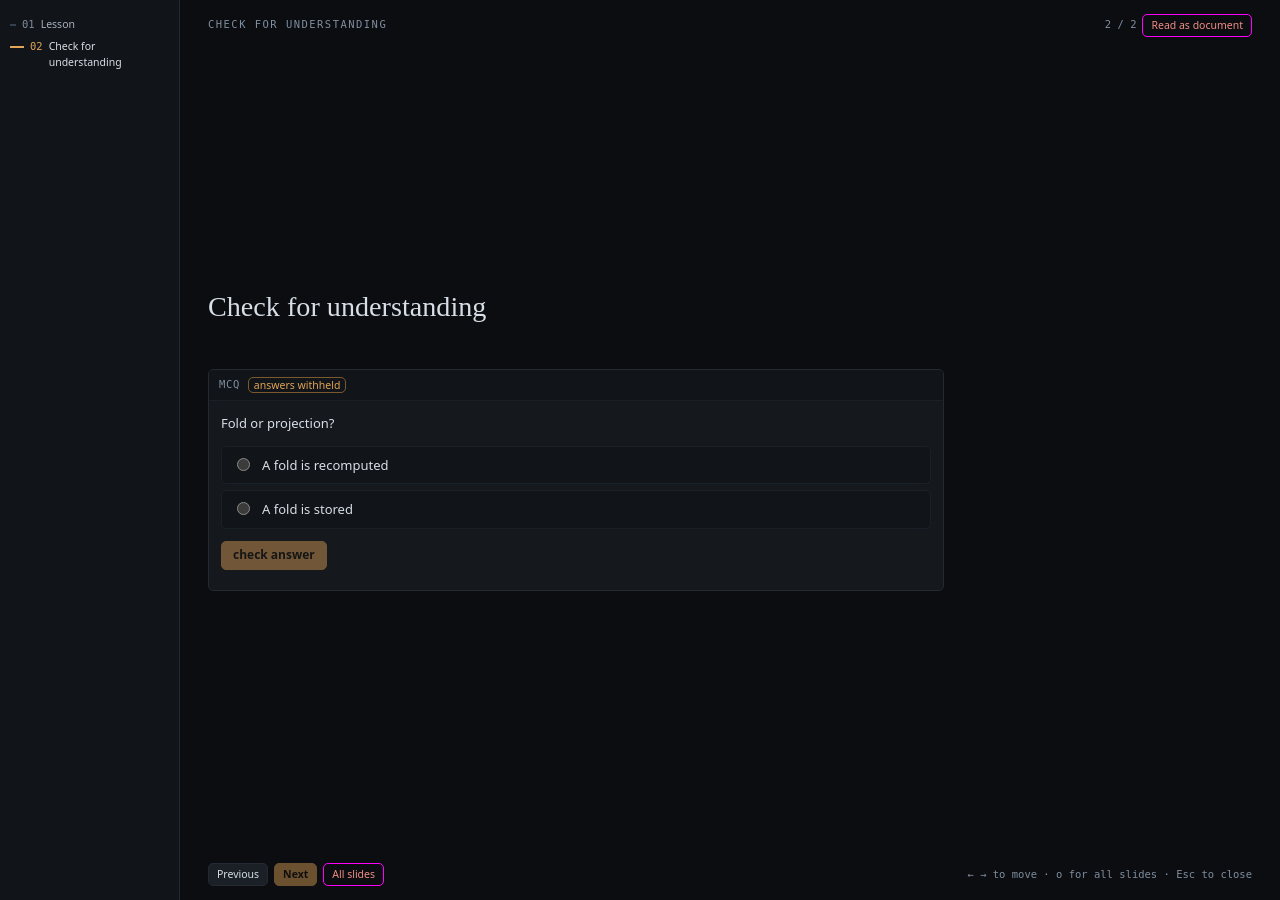
answers a multiple-choice question from a slide
Click the text "A fold is recomputed" at (325, 465), box [262,456,388,474]
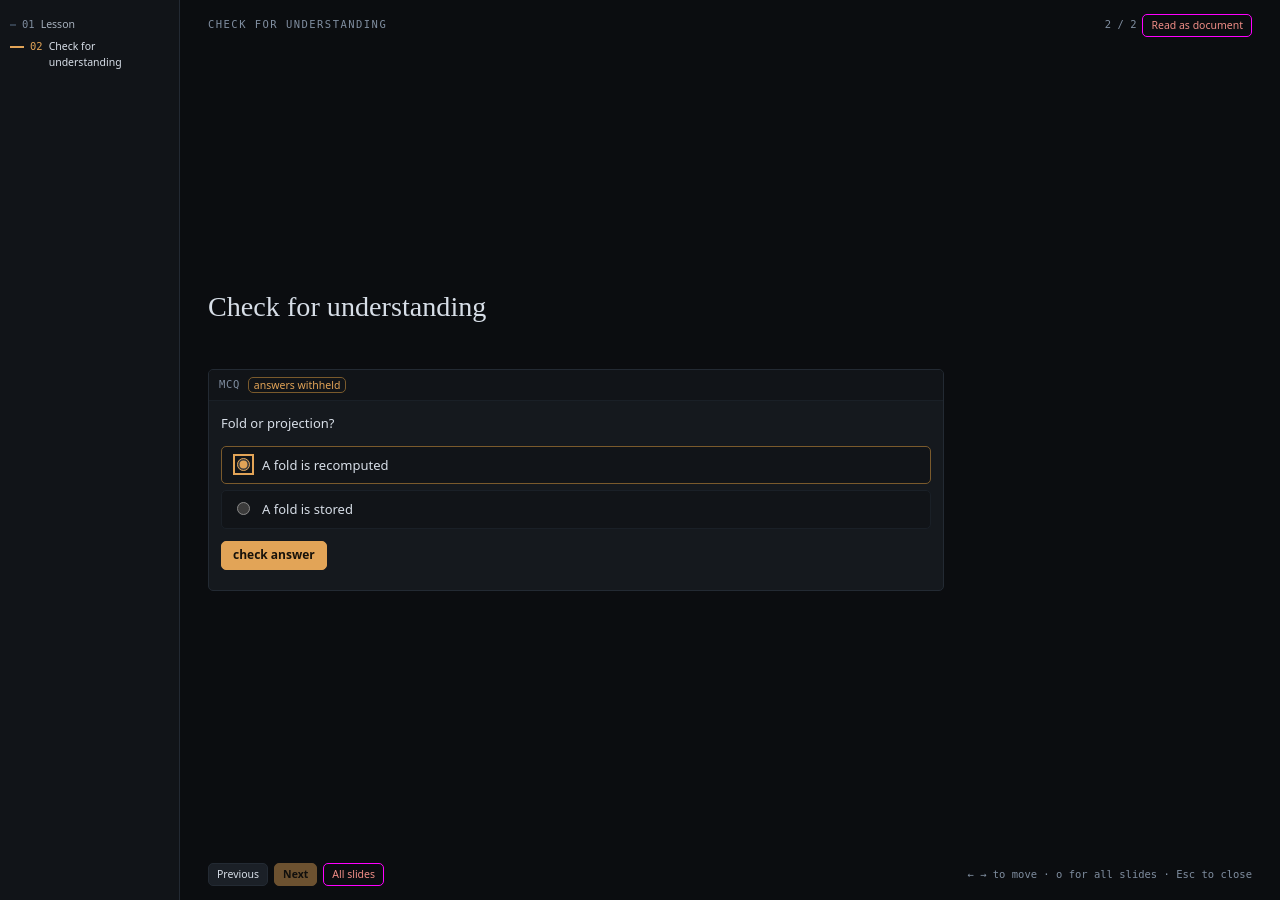
Click the button "check answer" at (274, 556), box [221,541,327,570]
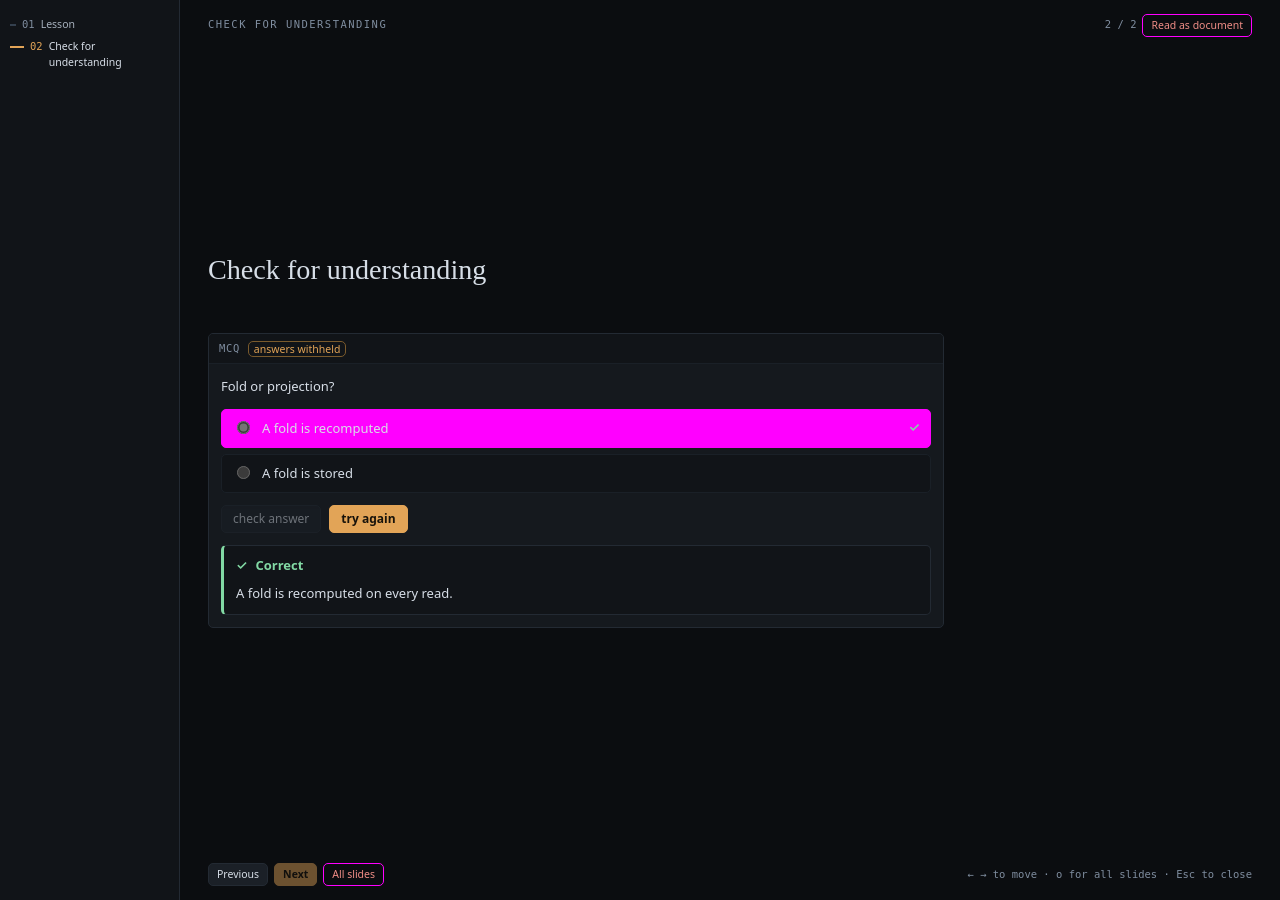
expect the text "A fold is recomputed on every read." is shown: met, box [236,584,453,602]
